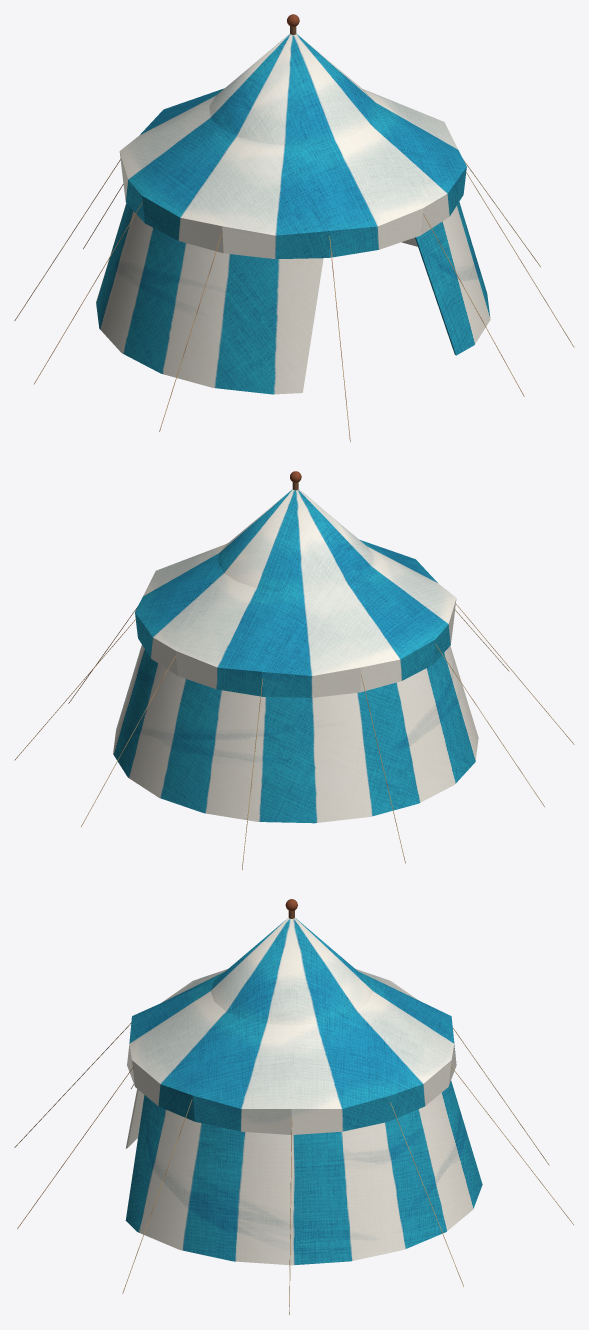
File: Pavilion.fbx
3 views of the same model, one above another, from view 1: azimuth 30°, elevation 25°; view 2: azimuth 150°, elevation 25°; view 3: azimuth 270°, elevation 25° (orthographic). The views are drawn at different scales.
Visible parts, largest first — view 1: polySurface2; view 2: polySurface2; view 3: polySurface2.
Boxes of the visible parts, bbox=[...] form: polySurface2: bbox=[96, 14, 490, 394]; polySurface2: bbox=[113, 471, 478, 823]; polySurface2: bbox=[125, 899, 482, 1265].
Size of the model in its own units: 2192 by 1297 by 2162.
Materials: 5 (4 with a texture image).
